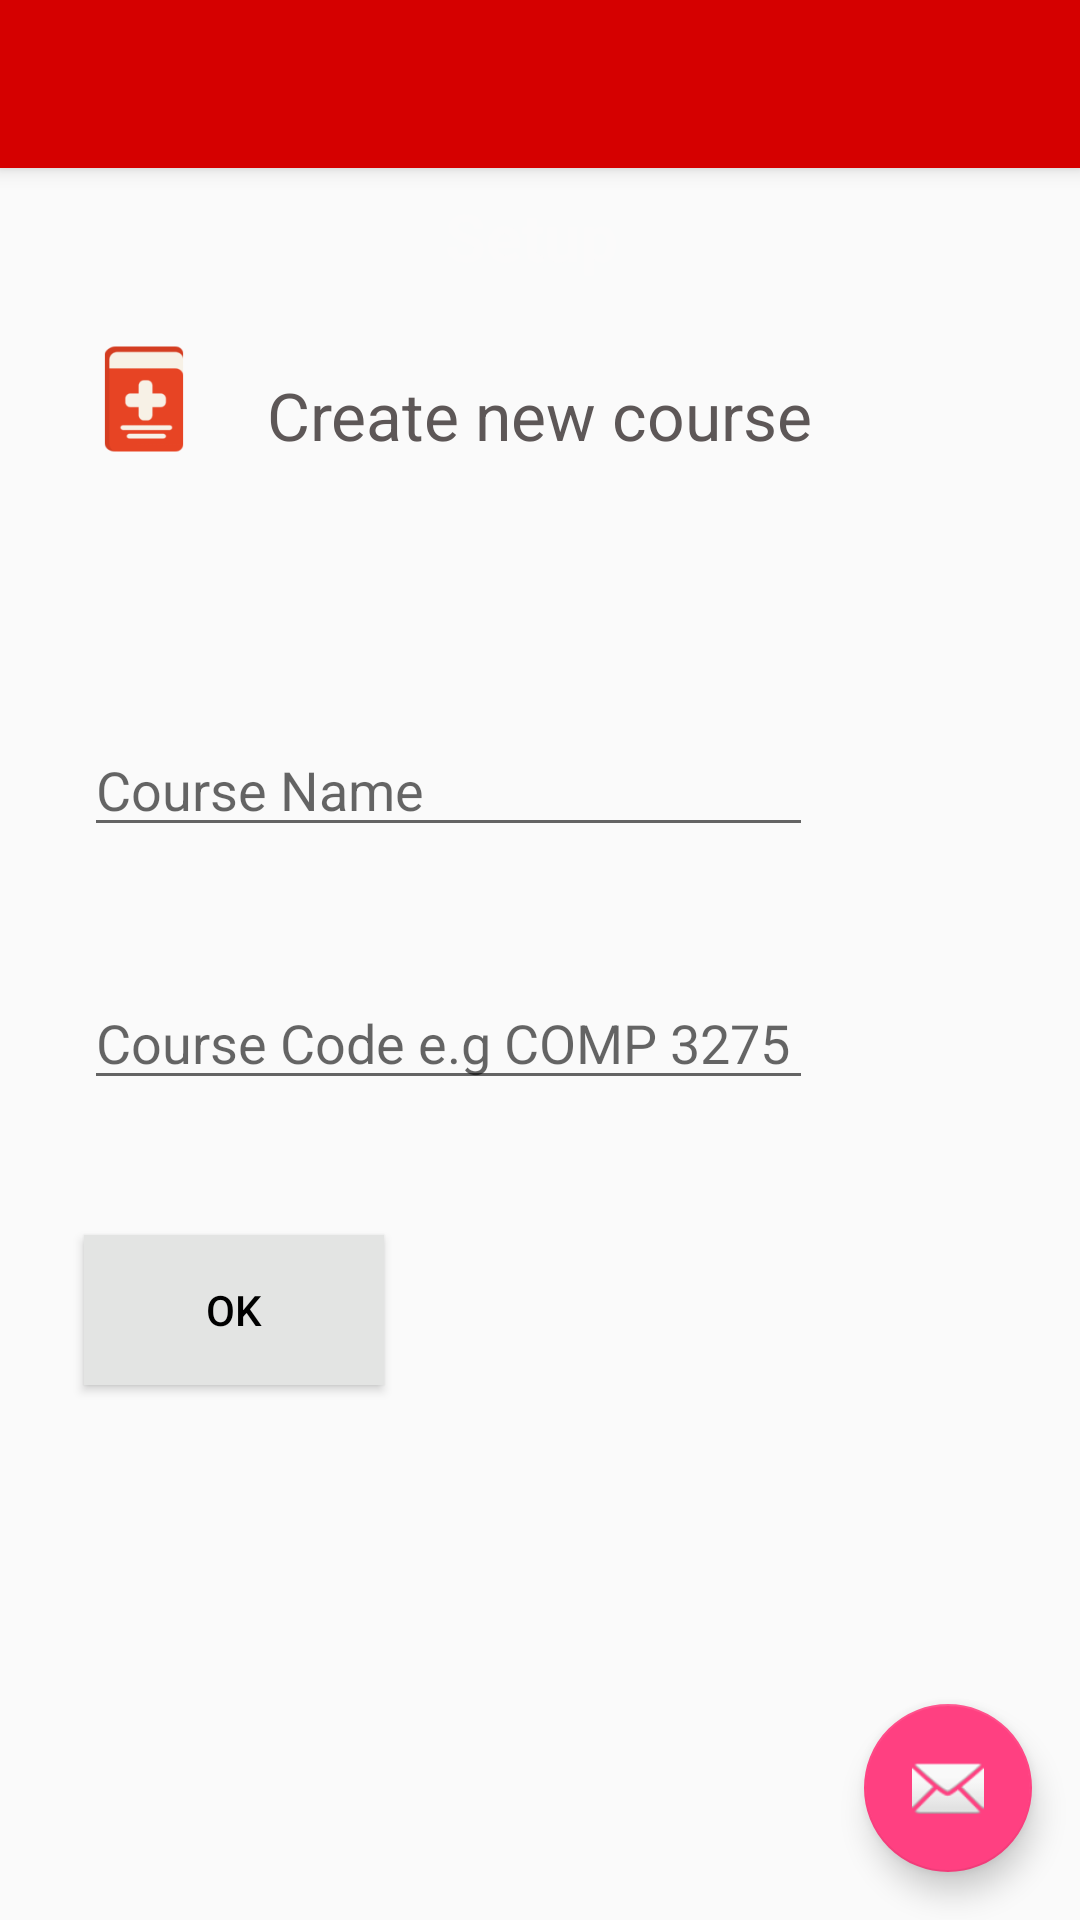

Named icons in this screenshot (1080 x 1920) and their centers, point (x, y):
email: point (948, 1788)
